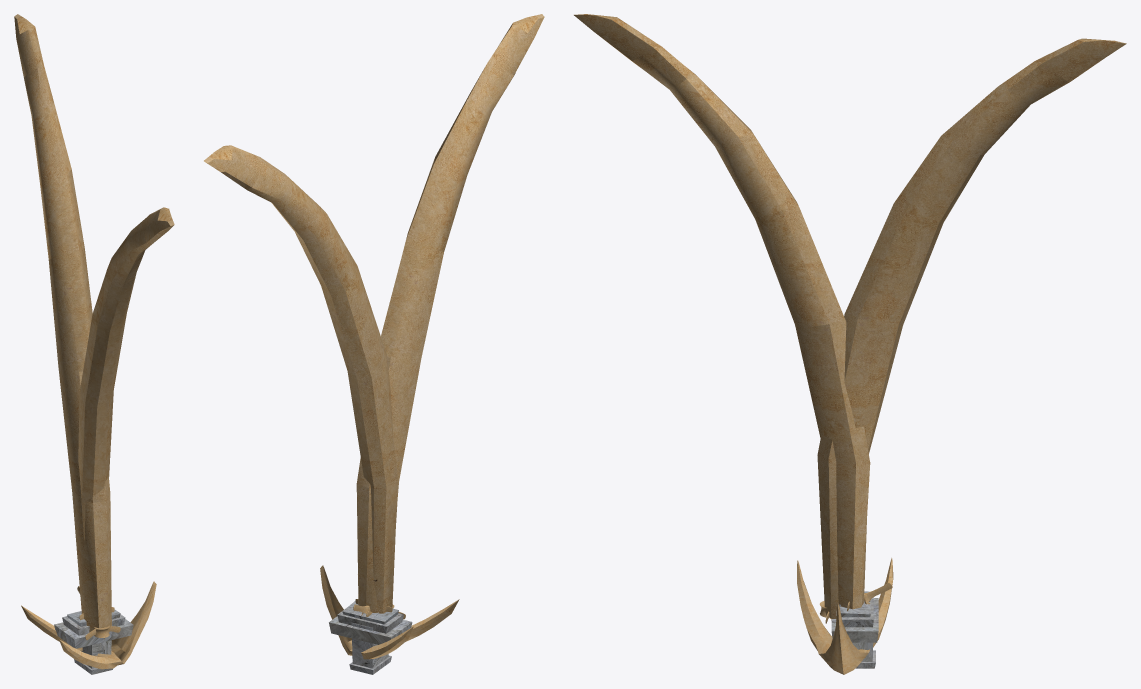
File: Stage001Stuffs.fbx
3 views of the same model, side by side, from view 1: azimuth 30°, elevation 25°; view 2: azimuth 150°, elevation 25°; view 3: azimuth 270°, elevation 25° (orthographic). The views are drawn at different scales.
Visible parts, largest first — view 1: Rib2, Rib1, Skull, WBStand1, WBStand2, WhaleBoneSpine; view 2: Rib1, Rib2, WBStand1, Skull, WBStand2; view 3: Rib1, Rib2, Skull, WBStand1.
Boxes of the visible parts, bbox=[...] form: Rib2: bbox=[14, 14, 111, 632]; Rib1: bbox=[78, 207, 174, 639]; Skull: bbox=[21, 581, 156, 669]; WBStand1: bbox=[54, 610, 133, 648]; WBStand2: bbox=[74, 611, 113, 674]; WhaleBoneSpine: bbox=[85, 625, 120, 640]; Rib1: bbox=[356, 14, 544, 612]; Rib2: bbox=[204, 145, 397, 613]; WBStand1: bbox=[329, 601, 412, 644]; Skull: bbox=[320, 565, 459, 659]; WBStand2: bbox=[349, 611, 391, 674]; Rib1: bbox=[574, 14, 870, 620]; Rib2: bbox=[817, 38, 1126, 619]; Skull: bbox=[797, 558, 893, 674]; WBStand1: bbox=[831, 591, 878, 642].
Bounding box in the file's own units: 873 × 4037 × 3140.
